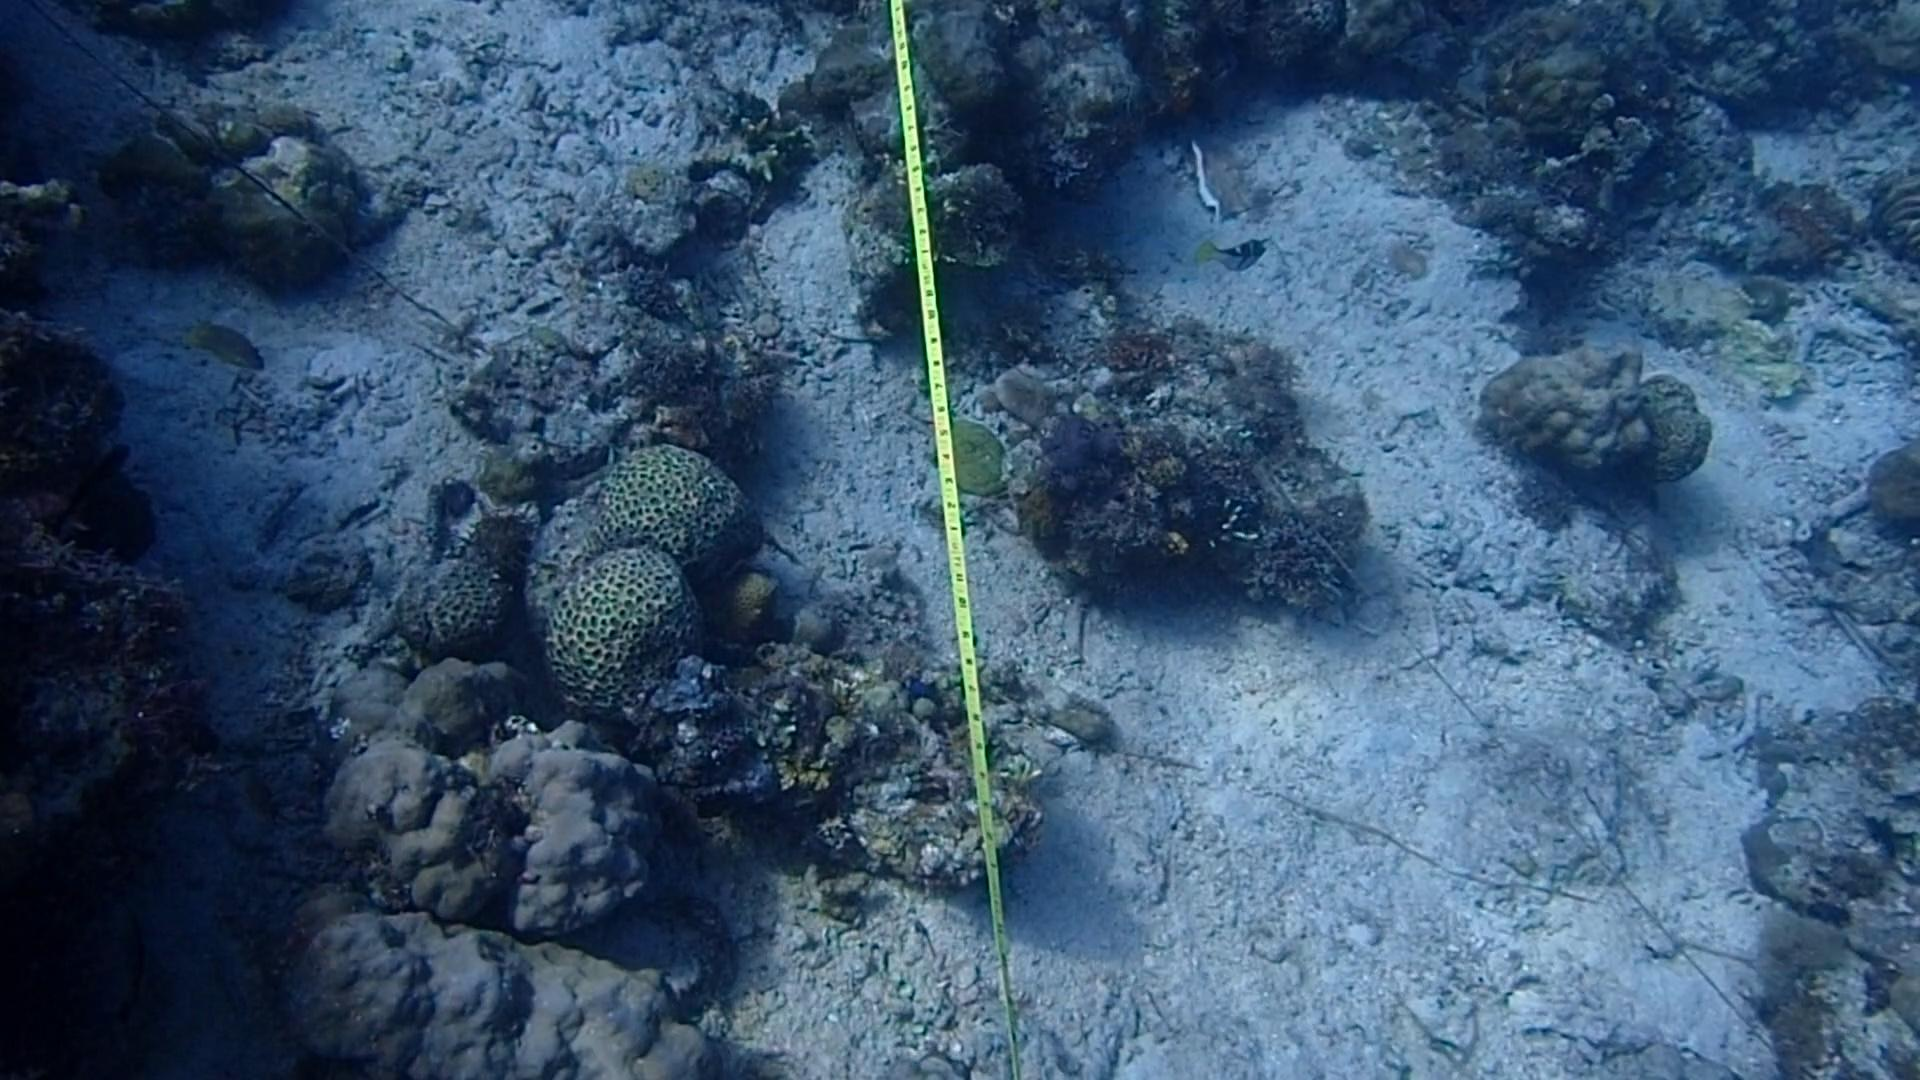Striped Fish: (1183, 233, 1279, 282)
